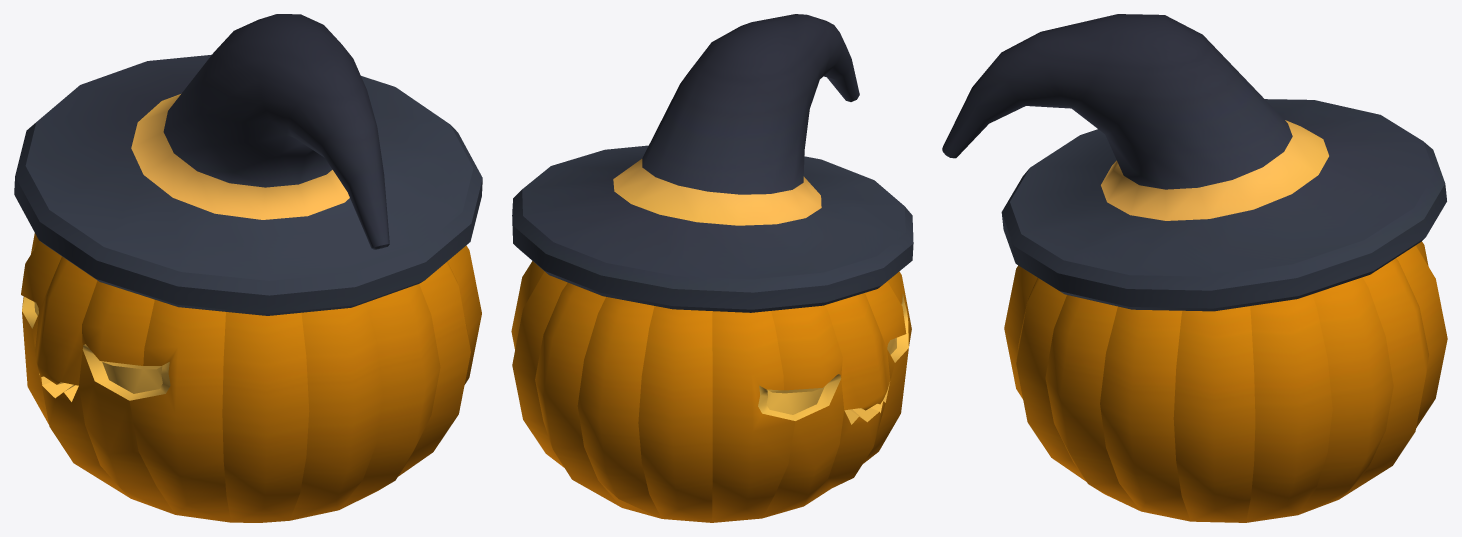
Rendered from Pumpkin_1.glb.
3 views of the same model, side by side, from view 1: azimuth 30°, elevation 25°; view 2: azimuth 150°, elevation 25°; view 3: azimuth 270°, elevation 25° (orthographic). The views are drawn at different scales.
Visible parts, largest first — view 1: Pumpkin_1; view 2: Pumpkin_1; view 3: Pumpkin_1.
Boxes of the visible parts, x1,y1,x2,y2 form: Pumpkin_1: (14, 14, 482, 522); Pumpkin_1: (511, 14, 913, 522); Pumpkin_1: (942, 14, 1447, 522).
Bounding box in the file's own units: 0.4317 × 0.4914 × 0.495.
Materials: 1 (1 with a texture image).
